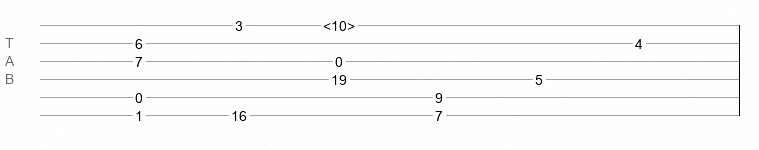0: (135, 90, 143, 100), (335, 54, 343, 64)
1: (135, 108, 143, 118)
16: (231, 108, 247, 118)
19: (331, 72, 347, 82)
3: (235, 18, 243, 28)
4: (635, 36, 643, 46)
5: (535, 72, 543, 82)
6: (135, 36, 143, 46)
7: (135, 54, 143, 64), (435, 108, 443, 118)
9: (435, 90, 443, 100)
harmonic: (323, 18, 355, 28)
